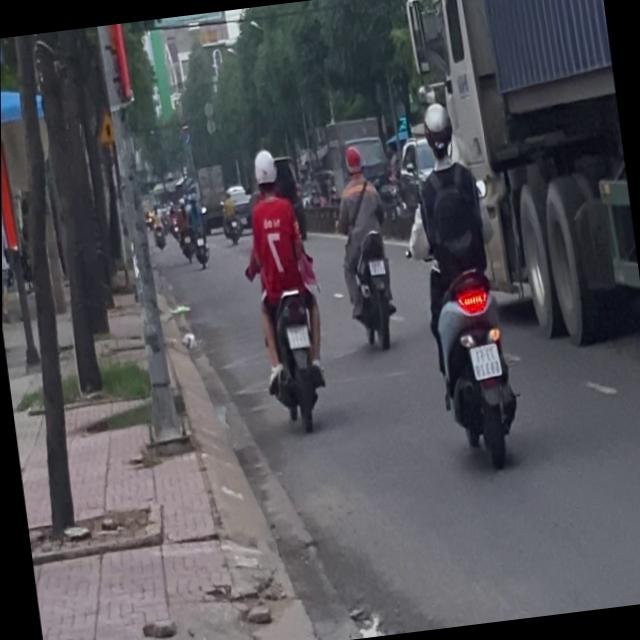helmet: (420, 98, 457, 160), (250, 145, 280, 194), (340, 140, 364, 178)
licenseplate: (393, 90, 527, 470), (231, 140, 337, 431), (319, 140, 403, 355)
nohelmet: (468, 342, 501, 378), (285, 322, 308, 347), (366, 258, 385, 274)
